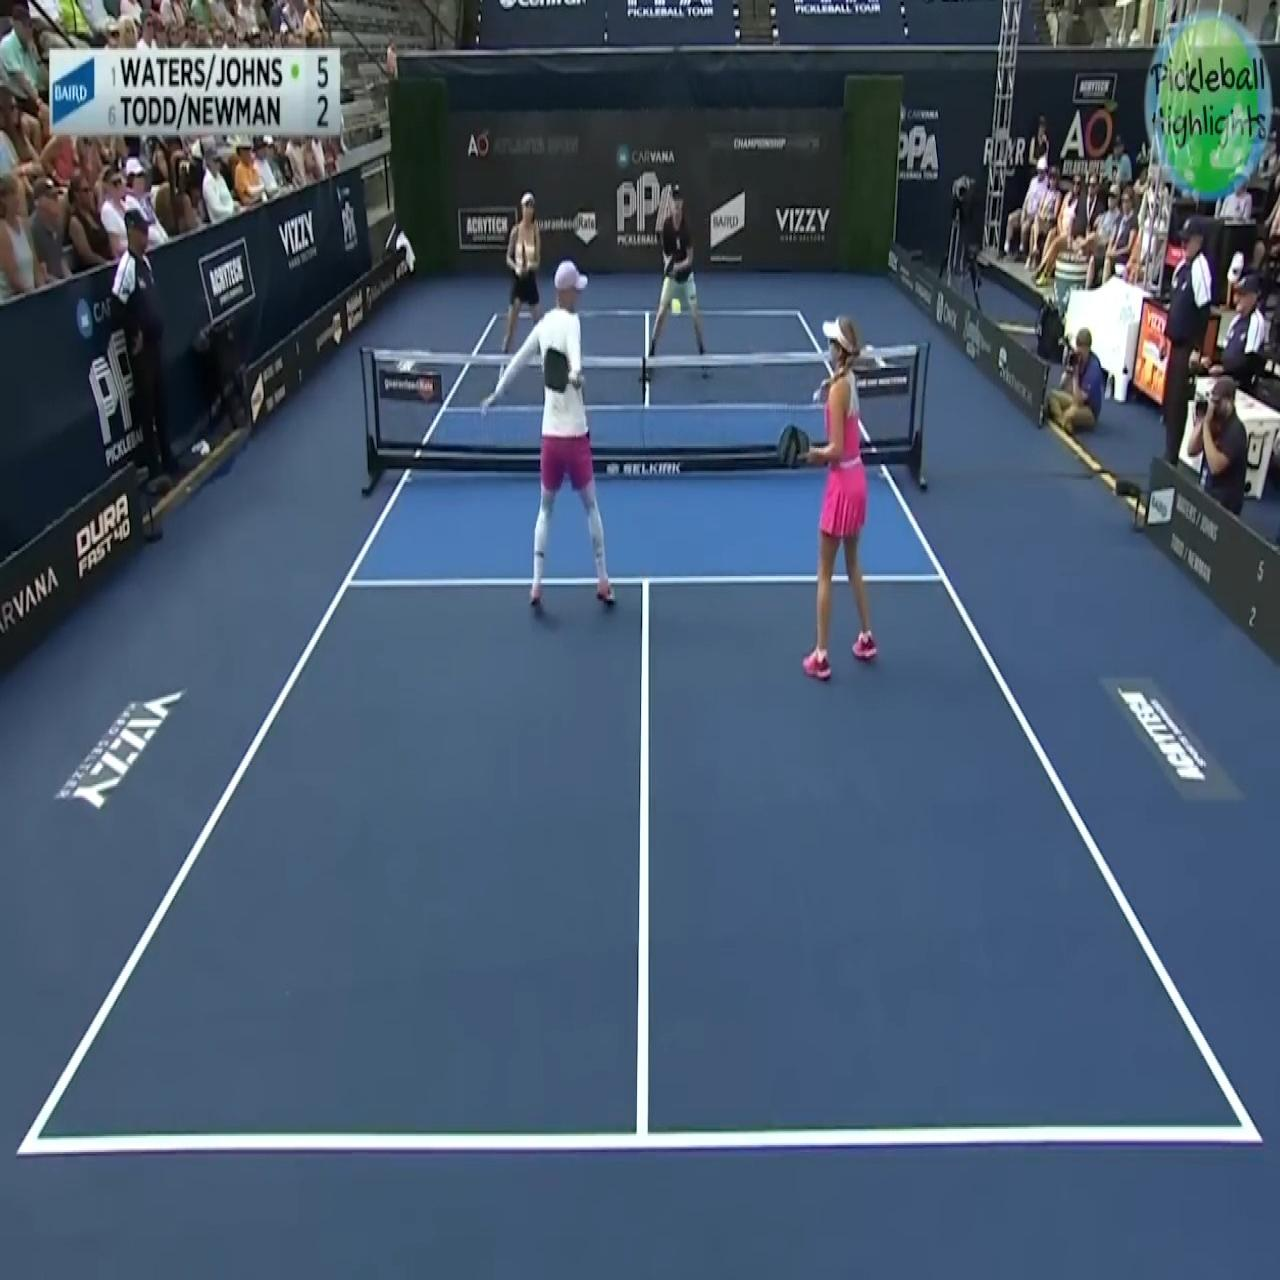Pickleball: (668, 293, 682, 319)
